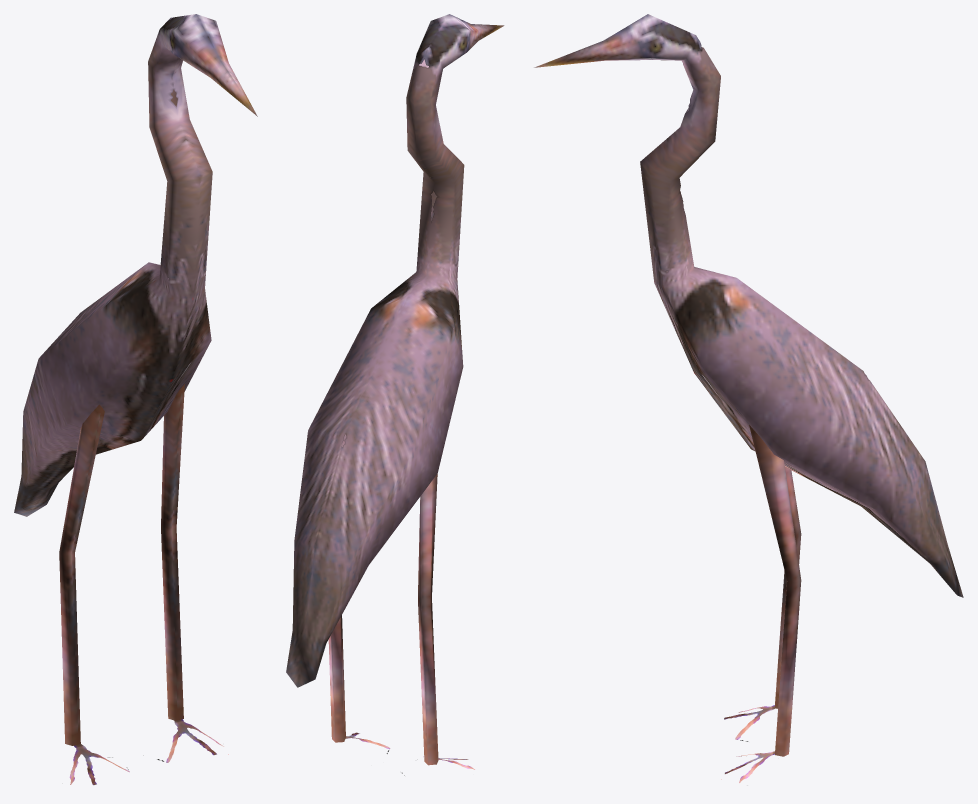
Rendered from heron.obj.
The picture shows the model from 3 angles, left to right: view 1: azimuth 30°, elevation 25°; view 2: azimuth 150°, elevation 25°; view 3: azimuth 270°, elevation 25°; orthographic projection. The views are drawn at different scales.
Parts seen in each view (by area): view 1: Cylinder; view 2: Cylinder; view 3: Cylinder.
Part boxes in pixels (box(x1,y1,x2,y2)): Cylinder: box(14, 14, 257, 785); Cylinder: box(286, 14, 504, 775); Cylinder: box(534, 14, 963, 785).
Bounding box in the file's own units: 0.2411 × 1.04 × 0.549.
